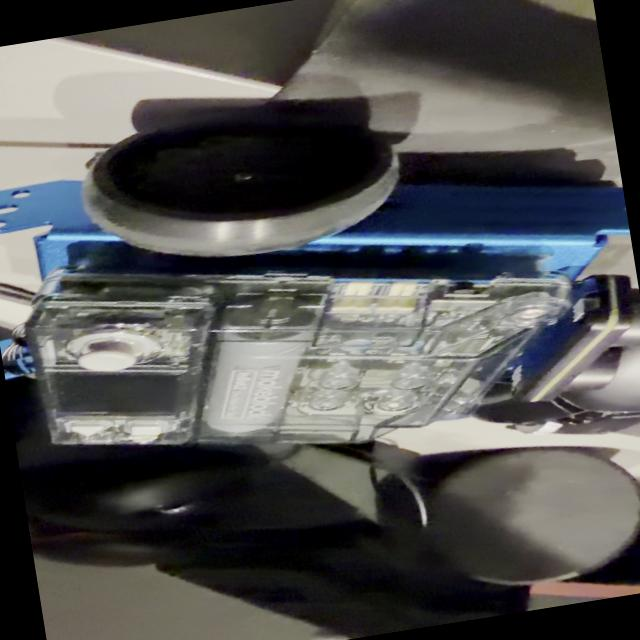mbot-detection: (0, 41, 640, 500)
